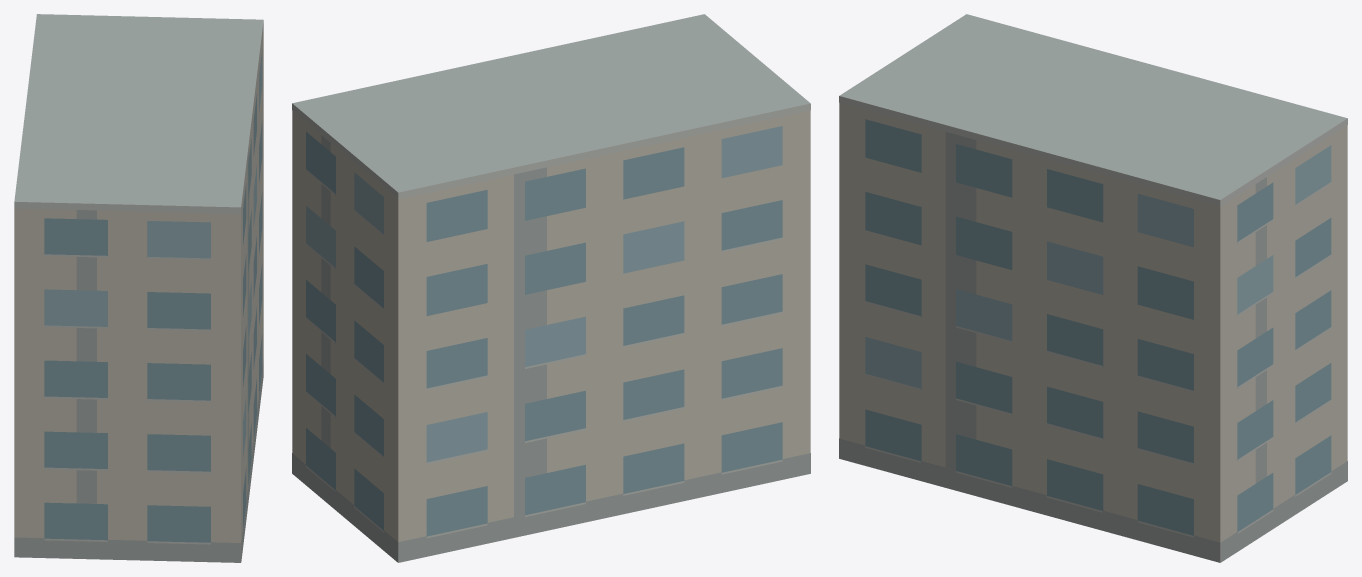
File: survey-upis-32893499.glb
3 renders of one model, left to right at view 1: azimuth 30°, elevation 25°; view 2: azimuth 150°, elevation 25°; view 3: azimuth 270°, elevation 25°, orthographic. The views are drawn at different scales.
Visible parts, largest first — view 1: survey-upis-32893499.tmp; view 2: survey-upis-32893499.tmp; view 3: survey-upis-32893499.tmp.
Part boxes in pixels (<box>): survey-upis-32893499.tmp: <box>14,14,263,562</box>; survey-upis-32893499.tmp: <box>292,14,810,562</box>; survey-upis-32893499.tmp: <box>839,14,1347,562</box>.
Bounding box in the file's own units: 14.53 × 13.2 × 16.78.
